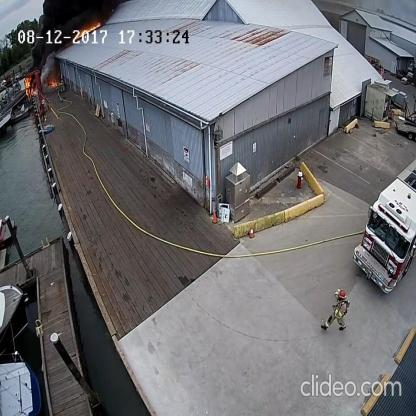fire: (76, 18, 102, 38), (22, 74, 38, 100), (46, 78, 61, 90)
